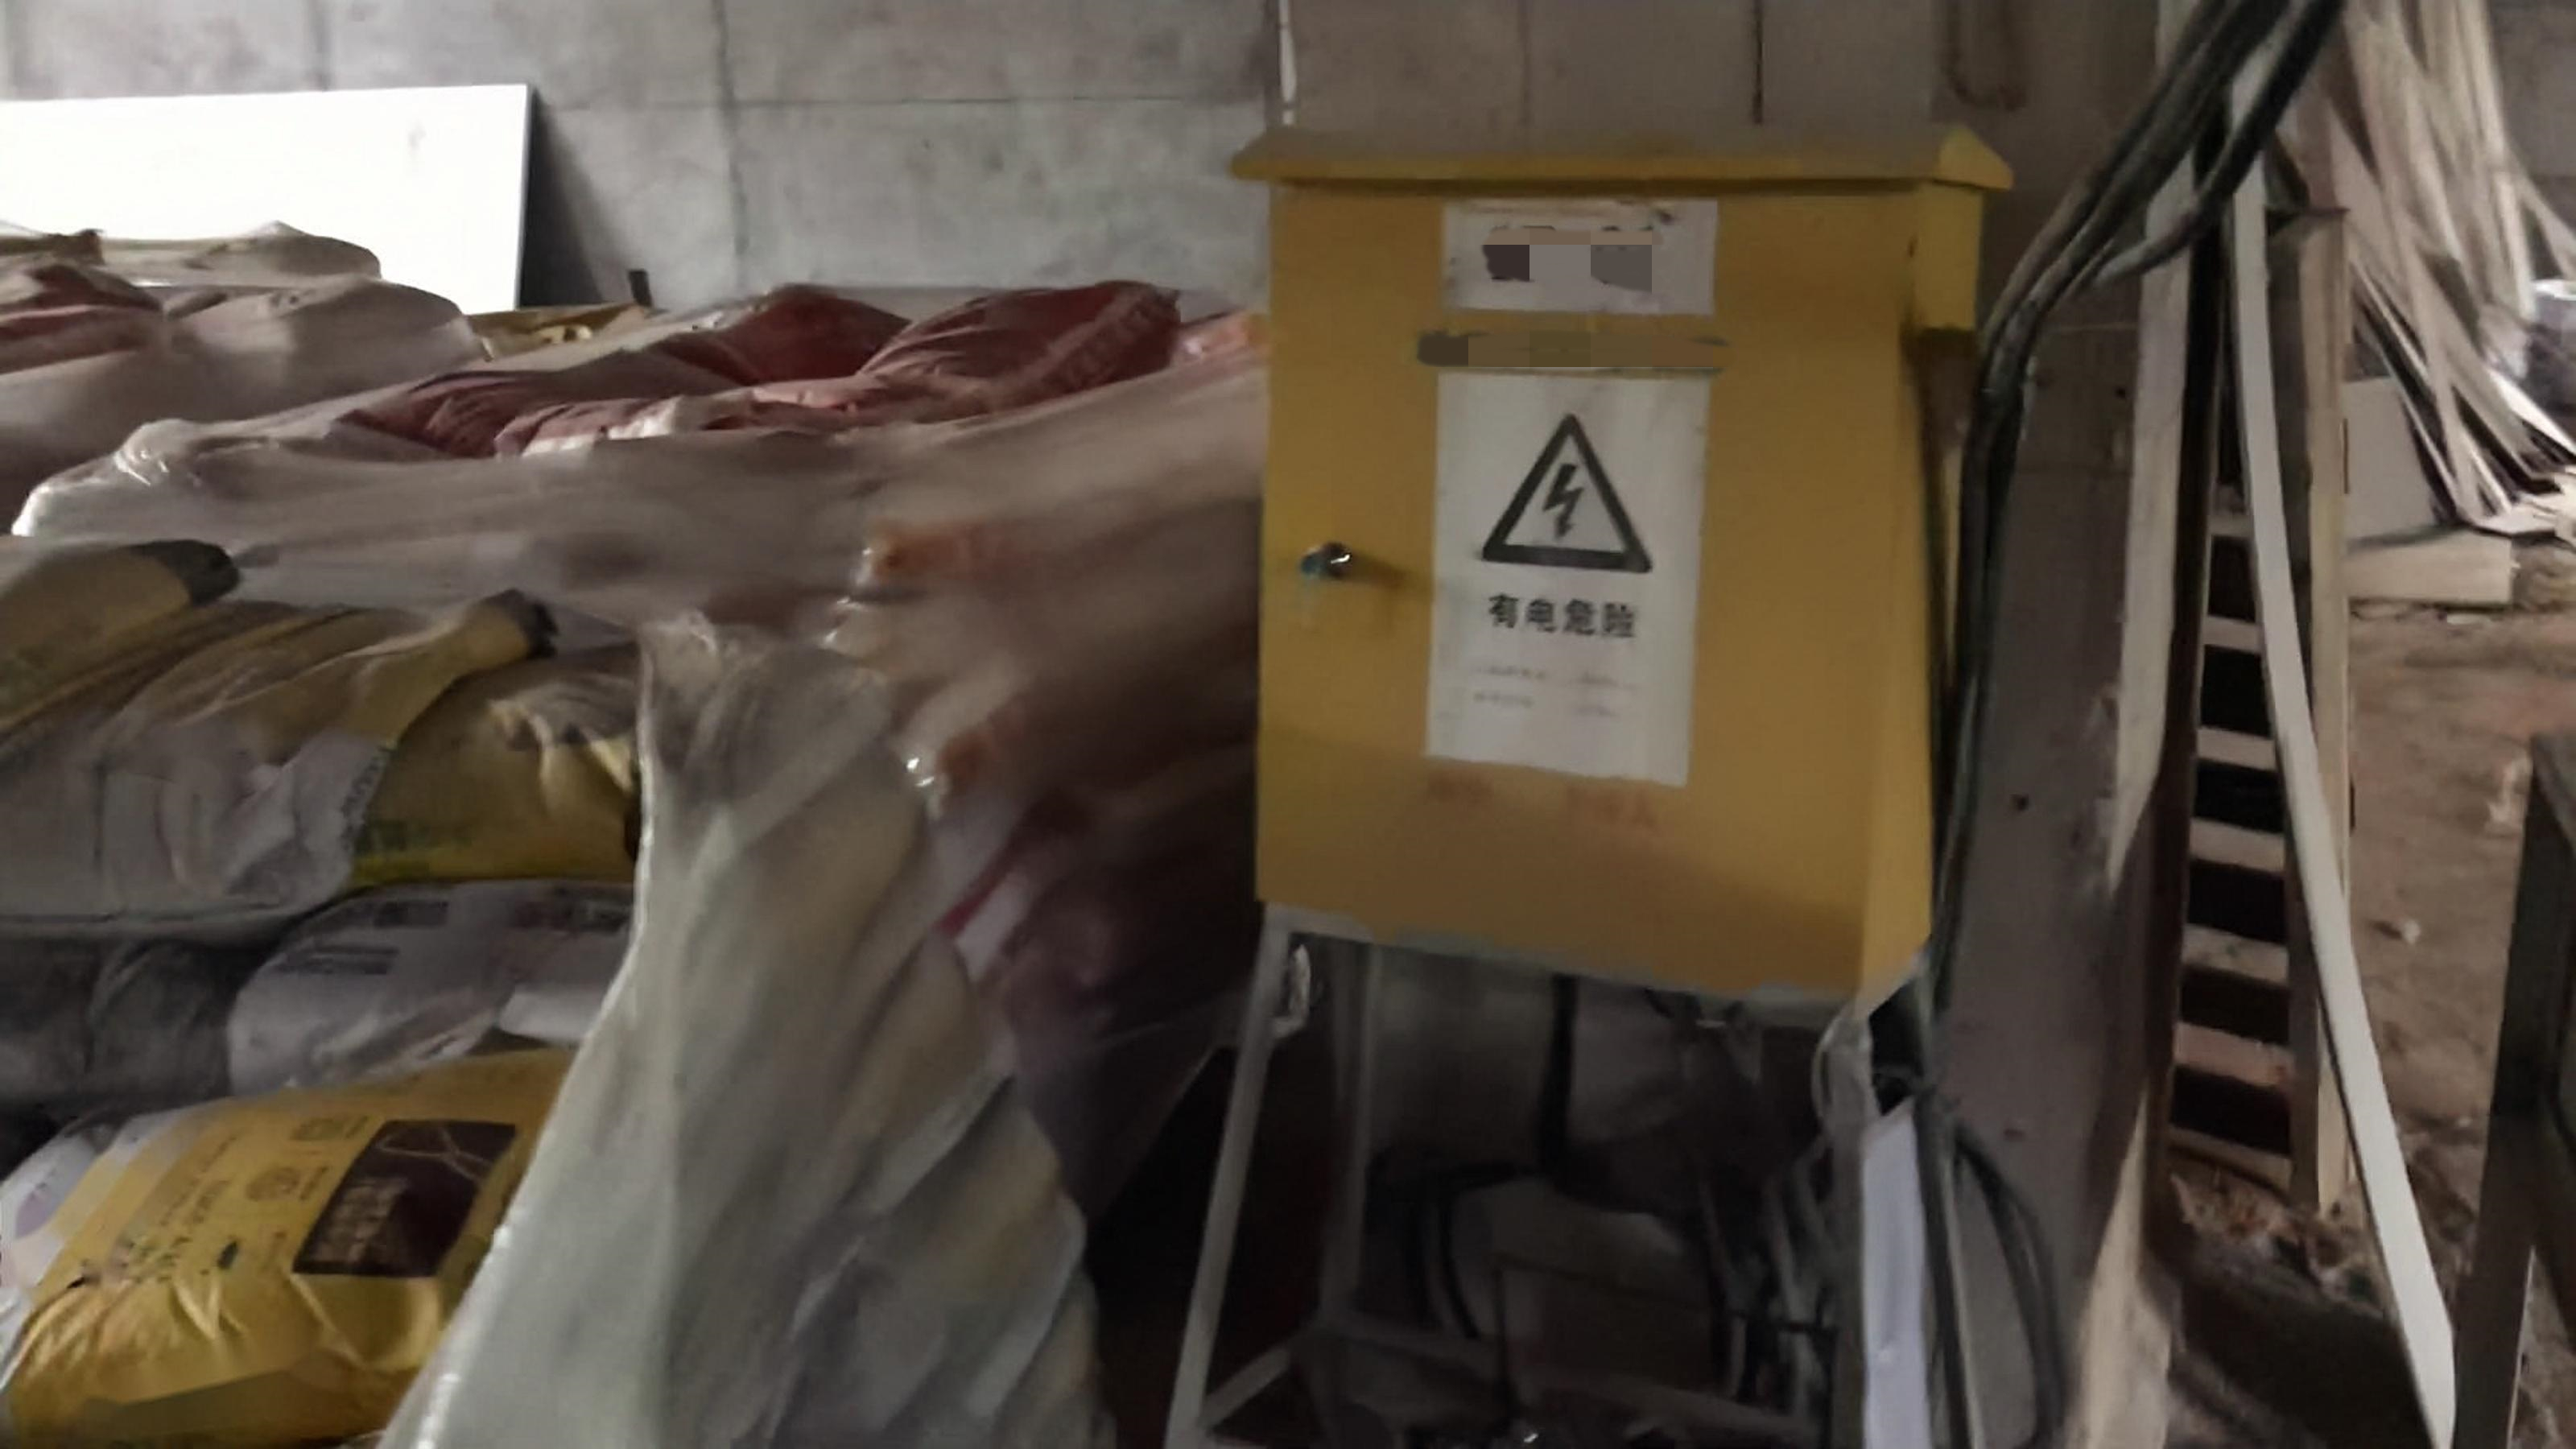ebox: (1189, 88, 2054, 1065)
